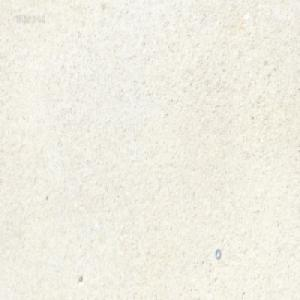Washer: (214, 248, 221, 259)
